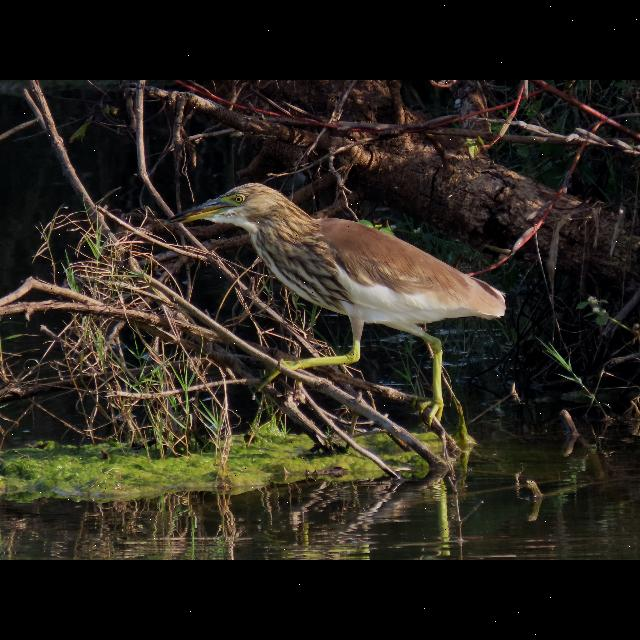heron: (174, 183, 508, 437)
